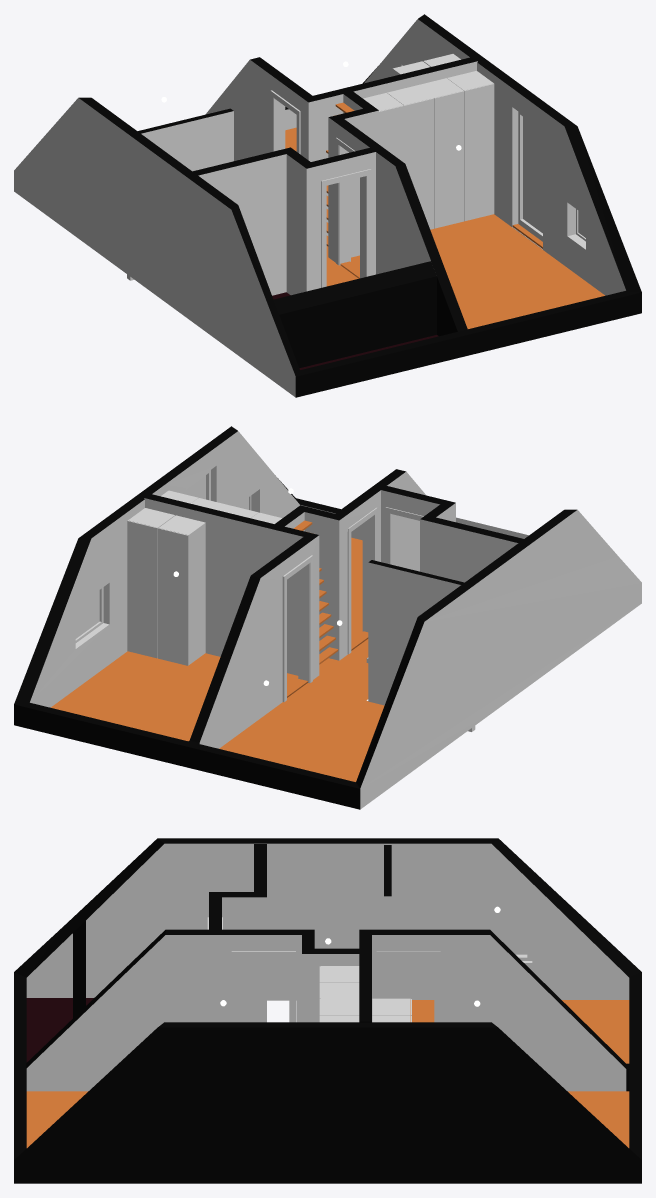
File: vallingby3_s_split_2.glb
The picture shows the model from 3 angles, top to bottom: view 1: azimuth 30°, elevation 25°; view 2: azimuth 150°, elevation 25°; view 3: azimuth 270°, elevation 25°; orthographic projection. The views are drawn at different scales.
Visible parts, largest first — view 1: Wall.006, Cabinet2.007, Wooden floor.001, Cabinet2.006; view 2: Wall.006, Wooden floor.001, Cabinet2.006, Cabinet2.007, Stair steps.001; view 3: Wall.006, Wooden floor.001, Cabinet2.007, Bathroom Tiles.001, Cabinet2.006.
Boxes of the visible parts, x1=… form: Wall.006: x1=14, y1=14, x2=641, y2=397; Cabinet2.007: x1=363, y1=71, x2=494, y2=229; Wooden floor.001: x1=285, y1=127, x2=604, y2=328; Cabinet2.006: x1=392, y1=54, x2=460, y2=76; Wall.006: x1=14, y1=426, x2=641, y2=809; Wooden floor.001: x1=51, y1=537, x2=384, y2=781; Cabinet2.006: x1=127, y1=508, x2=205, y2=665; Cabinet2.007: x1=161, y1=490, x2=282, y2=523; Stair steps.001: x1=293, y1=520, x2=338, y2=664; Wall.006: x1=14, y1=838, x2=641, y2=1183; Wooden floor.001: x1=26, y1=1000, x2=629, y2=1147; Cabinet2.007: x1=319, y1=966, x2=359, y2=1022; Bathroom Tiles.001: x1=26, y1=998, x2=93, y2=1062; Cabinet2.006: x1=372, y1=998, x2=411, y2=1022.
Size of the model in its own units: 6.95 by 3.46 by 9.8.
